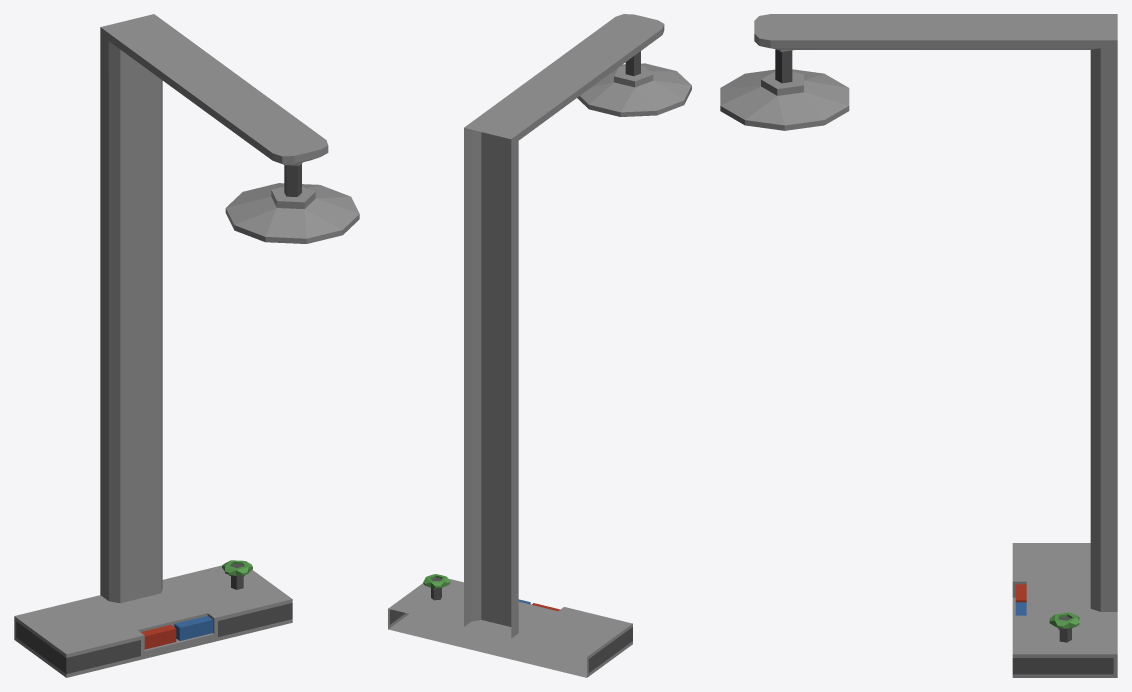
Rendered from Int_ShowerHead01.fbx.
3 views of the same model, side by side, from view 1: azimuth 30°, elevation 25°; view 2: azimuth 150°, elevation 25°; view 3: azimuth 270°, elevation 25° (orthographic). The views are drawn at different scales.
Visible parts, largest first — view 1: Int_ShowerHead01; view 2: Int_ShowerHead01; view 3: Int_ShowerHead01.
Part boxes in pixels (x1=…): Int_ShowerHead01: x1=14, y1=14, x2=359, y2=677; Int_ShowerHead01: x1=388, y1=14, x2=691, y2=677; Int_ShowerHead01: x1=720, y1=14, x2=1117, y2=677.
Size of what is drawn, in the model's own units: 59.16 by 89.49 by 148.
